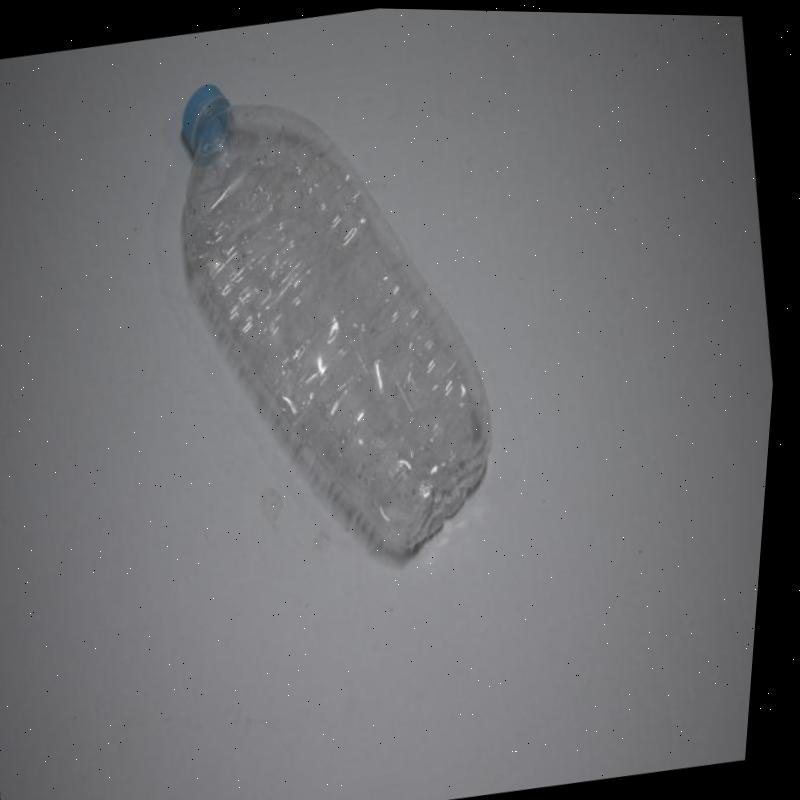botella: (141, 44, 539, 591)
